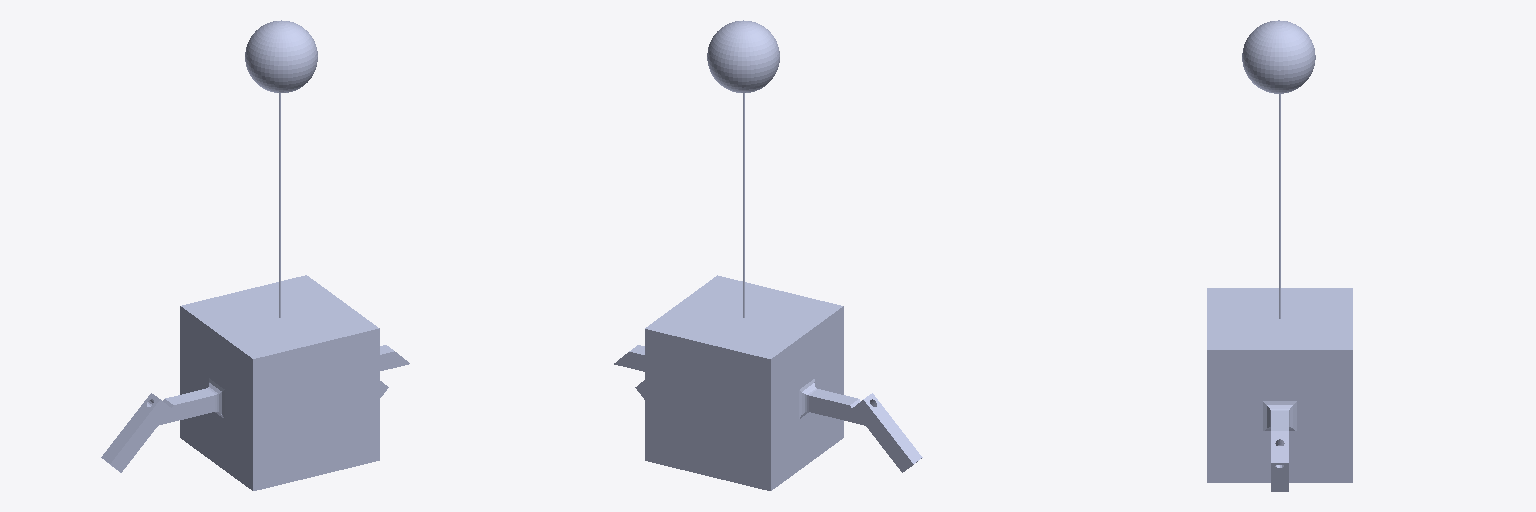
robot.urdf — Box_with_legs:
<robot
  name="Box_with_legs">
  <link name="world"/>
  <joint name="base_to_world_fixed" type="fixed">
    <parent link="world"/>
    <child link="base_link"/>
    <origin xyz="0 0 0" rpy="0 0 0" />
  </joint>
  <link
    name="base_link">
    <inertial>
      <origin
        xyz="0 0 0"
        rpy="0 0 0" />
      <mass
        value="0.0085802" />
      <inertia
        ixx="5.5356E-07"
        ixy="0"
        ixz="0"
        iyy="5.5356E-07"
        iyz="0"
        izz="5.5356E-07" />
    </inertial>
    <visual>
      <origin
        xyz="0 0 0"
        rpy="0 0 0" />
      <geometry>
        <mesh
          filename="meshes/base_link.STL" />
      </geometry>
      <material
        name="">
        <color
          rgba="0.79216 0.81961 0.93333 1" />
      </material>
    </visual>
    <collision>
      <origin
        xyz="0 0 0"
        rpy="0 0 0" />
      <geometry>
        <mesh
          filename="meshes/base_link.STL" />
      </geometry>
    </collision>
  </link>
  <link
    name="string_link">
    <inertial>
      <origin
        xyz="0 -0.0508 0"
        rpy="0 0 0" />
      <mass
        value="5.0144E-05" />
      <inertia
        ixx="4.2913E-08"
        ixy="0"
        ixz="1.8833E-44"
        iyy="3.945E-12"
        iyz="2.1019E-42"
        izz="4.2913E-08" />
    </inertial>
    <visual>
      <origin
        xyz="0 0 0"
        rpy="0 0 0" />
      <geometry>
        <mesh
          filename="meshes/string_link.STL" />
      </geometry>
      <material
        name="">
        <color
          rgba="0.79216 0.81961 0.93333 1" />
      </material>
    </visual>
    <collision>
      <origin
        xyz="0 0 0"
        rpy="0 0 0" />
      <geometry>
        <mesh
          filename="meshes/string_link.STL" />
      </geometry>
    </collision>
  </link>
  <joint
    name="anchor"
    type="continuous">
    <origin
      xyz="-0.00040794 0.00038516 0"
      rpy="1.5708 0 0" />
    <parent
      link="base_link" />
    <child
      link="string_link" />
    <axis
      xyz="-0.72712 0 -0.68652" />
  </joint>
  <link
    name="body_link">
    <inertial>
      <origin
        xyz="0 -0.025401 0"
        rpy="0 0 0" />
      <mass
        value="0.1329" />
      <inertia
        ixx="5.6399E-05"
        ixy="-4.502E-16"
        ixz="3.0171E-13"
        iyy="5.8774E-05"
        iyz="3.4575E-13"
        izz="5.8774E-05" />
    </inertial>
    <visual>
      <origin
        xyz="0 0 0"
        rpy="0 0 0" />
      <geometry>
        <mesh
          filename="meshes/body_link.STL" />
      </geometry>
      <material
        name="">
        <color
          rgba="0.79216 0.81961 0.93333 1" />
      </material>
    </visual>
    <collision>
      <origin
        xyz="0 0 0"
        rpy="0 0 0" />
      <geometry>
        <mesh
          filename="meshes/body_link.STL" />
      </geometry>
    </collision>
  </link>
  <joint
    name="top_body_ball_joint"
    type="continuous">
    <origin
      xyz="0 -0.1 0"
      rpy="0 0 0" />
    <parent
      link="string_link" />
    <child
      link="body_link" />
    <axis
      xyz="0 0 -1" />
  </joint>
  <link
    name="leg_left_link">
    <inertial>
      <origin
        xyz="-0.011619 0 0"
        rpy="0 0 0" />
      <mass
        value="0.0011019" />
      <inertia
        ixx="7.5428E-09"
        ixy="0.0"
        ixz="0.0"
        iyy="7.5718E-08"
        iyz="0.0"
        izz="7.5581E-08" />
    </inertial>
    <visual>
      <origin
        xyz="0 0 0"
        rpy="0 0 0" />
      <geometry>
        <mesh
          filename="meshes/leg_left_link.STL" />
      </geometry>
      <material
        name="">
        <color
          rgba="0.79216 0.81961 0.93333 1" />
      </material>
    </visual>
    <collision>
      <origin
        xyz="0 0 0"
        rpy="0 0 0" />
      <geometry>
        <mesh
          filename="meshes/leg_left_link.STL" />
      </geometry>
    </collision>
  </link>
  <joint
    name="leg_left"
    type="continuous">
    <origin
      xyz="-0.04987 -0.023155 0"
      rpy="0 0 0.7854" />
    <parent
      link="body_link" />
    <child
      link="leg_left_link" />
    <axis
      xyz="0 -1 0" />
  </joint>
  <link
    name="leg_right_link">
    <inertial>
      <origin
        xyz="0 0.017463 0"
        rpy="0 0 0" />
      <mass
        value="0.0011019" />
      <inertia
        ixx="7.5428E-09"
        ixy="0.0"
        ixz="0.0"
        iyy="7.5718E-08"
        iyz="0.0"
        izz="7.5581E-08" />
    </inertial>
    <visual>
      <origin
        xyz="0 0 0"
        rpy="0 0 0" />
      <geometry>
        <mesh
          filename="meshes/leg_right_link.STL" />
      </geometry>
      <material
        name="">
        <color
          rgba="0.79216 0.81961 0.93333 1" />
      </material>
    </visual>
    <collision>
      <origin
        xyz="0 0 0"
        rpy="0 0 0" />
      <geometry>
        <mesh
          filename="meshes/leg_right_link.STL" />
      </geometry>
    </collision>
  </link>
  <joint
    name="leg_right"
    type="continuous">
    <origin
      xyz="0.037522 -0.035503 0"
      rpy="0 0 0.7854" />
    <parent
      link="body_link" />
    <child
      link="leg_right_link" />
    <axis
      xyz="0 -1 0" />
  </joint>
</robot>

--- Facts derived from the render (not from the file) ---
The picture shows the robot from 3 angles, left to right: view 1: azimuth 30°, elevation 25°; view 2: azimuth 150°, elevation 25°; view 3: azimuth 270°, elevation 25°; orthographic projection.
Robot: Box_with_legs — 6 links, 5 joints (4 continuous, 1 fixed); root link world; default pose: every joint at zero.
Visible links, largest first — view 1: body_link, base_link, leg_left_link; view 2: body_link, base_link, leg_left_link; view 3: body_link, base_link, leg_right_link.
Boxes of the visible links, x1,y1,x2,y2 form: body_link: (158,275,409,490); base_link: (245,20,317,92); leg_left_link: (101,393,170,472); body_link: (614,275,864,490); base_link: (707,20,779,92); leg_left_link: (852,393,922,472); body_link: (1207,288,1352,482); base_link: (1242,20,1315,93); leg_right_link: (1271,446,1288,491).
Bounding box of the posed robot: 0.1209 × 0.0508 × 0.1684 m (x, y, z).
5 mesh visuals loaded from 5 distinct referenced files (5 binary STL).